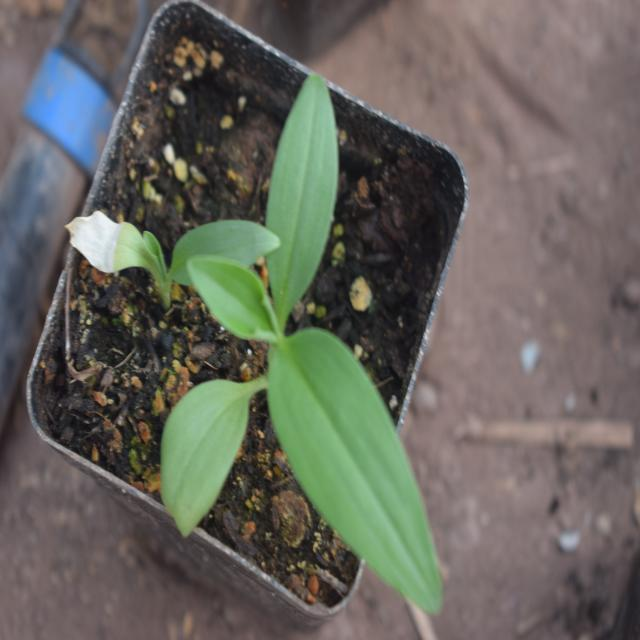Common Dayflower: (156, 99, 457, 612)
